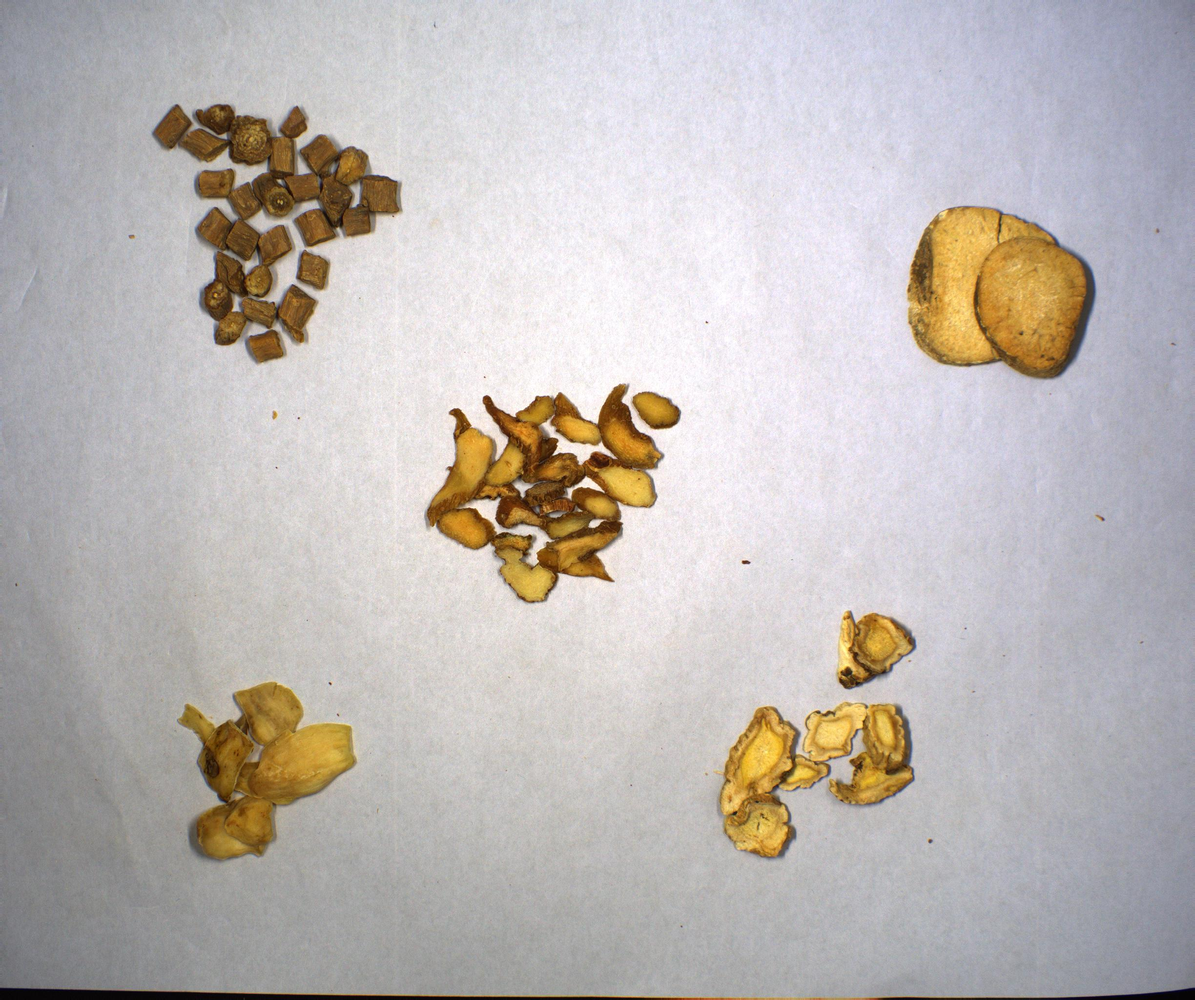baihe: (177, 682, 360, 863)
jiegeng: (721, 609, 917, 857)
niuxi: (146, 95, 405, 360)
yuzhu: (420, 380, 682, 606)
zexie: (910, 207, 1090, 373)
